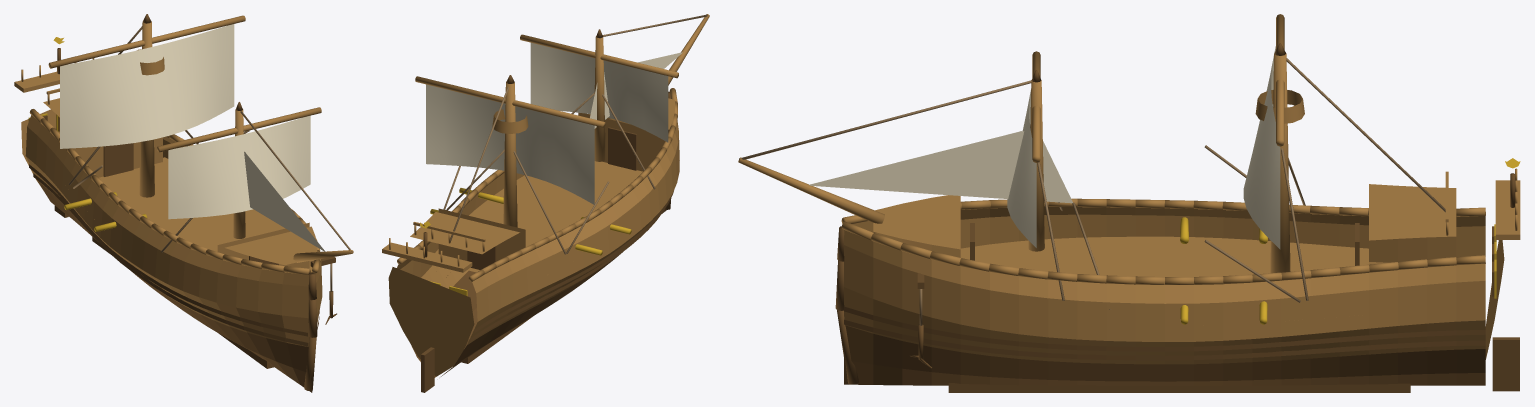
Rendered from Flagship.fbx.
3 renders of one model, left to right at view 1: azimuth 30°, elevation 25°; view 2: azimuth 150°, elevation 25°; view 3: azimuth 270°, elevation 25°, orthographic. The views are drawn at different scales.
Visible parts, largest first — view 1: Flagship; view 2: Flagship; view 3: Flagship.
Boxes of the visible parts, x1=… form: Flagship: x1=14, y1=14, x2=353, y2=392; Flagship: x1=382, y1=14, x2=709, y2=392; Flagship: x1=738, y1=14, x2=1520, y2=392.
Size of the model in its own units: 600 by 775 by 1585.
